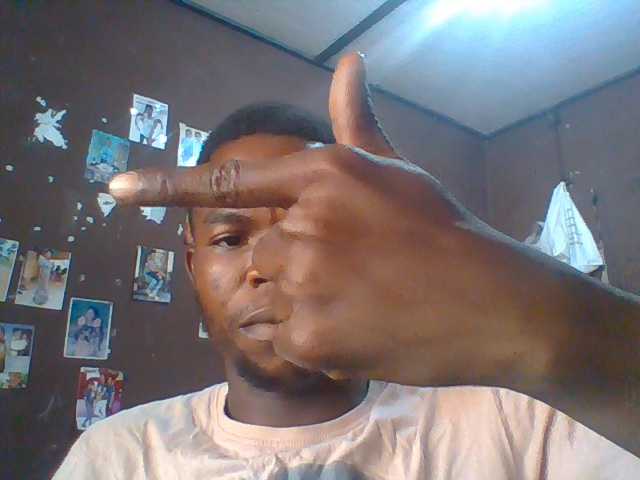Right: (105, 45, 535, 386)
